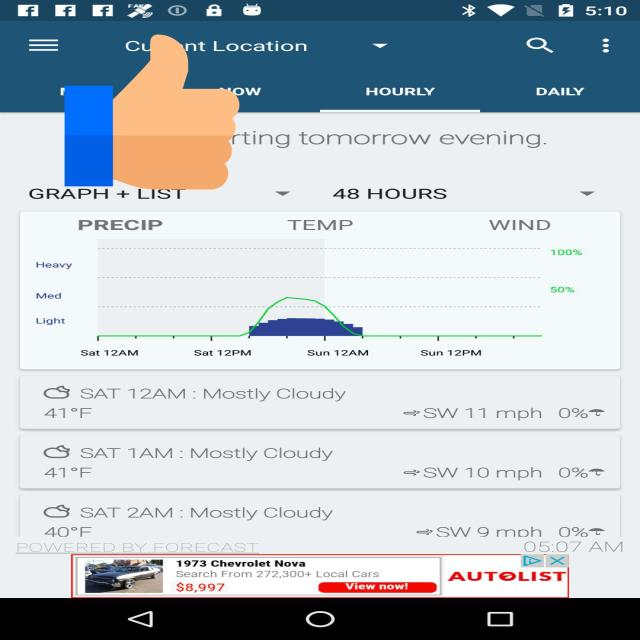privacy zuckering: (64, 31, 240, 193)
